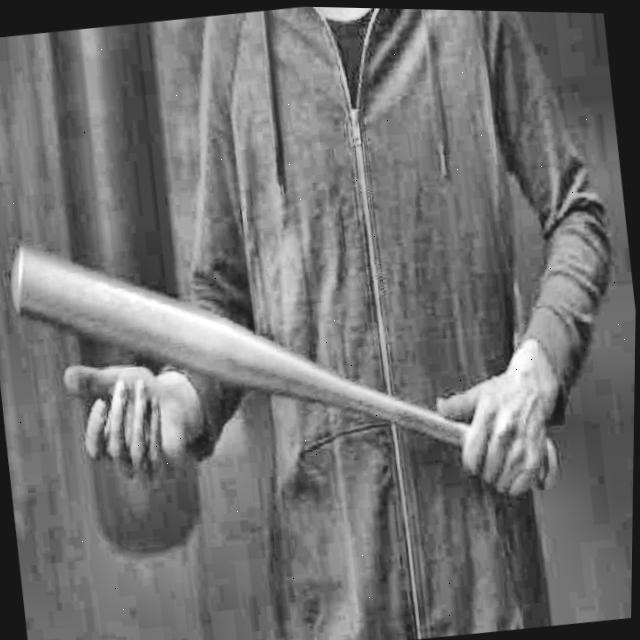tongkat pemukul: (1, 238, 576, 505)
